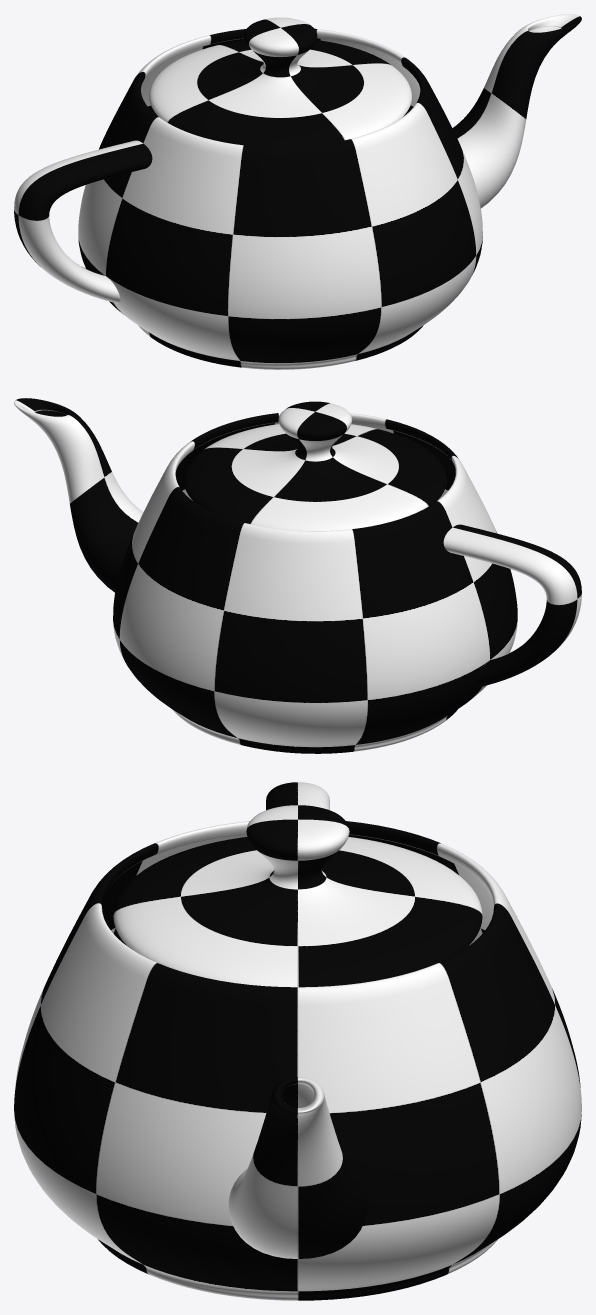
File: SingleTeapot-DiffuseTex.FBX
The picture shows the model from 3 angles, top to bottom: view 1: azimuth 30°, elevation 25°; view 2: azimuth 150°, elevation 25°; view 3: azimuth 270°, elevation 25°; orthographic projection. The views are drawn at different scales.
Visible parts, largest first — view 1: Teapot001; view 2: Teapot001; view 3: Teapot001.
Boxes of the visible parts, x1,y1,x2,y2 form: Teapot001: [14, 14, 581, 369]; Teapot001: [14, 398, 581, 753]; Teapot001: [14, 782, 581, 1300].
Bounding box in the file's own units: 1.61 × 0.7875 × 1.
1 material, 1 textured.
